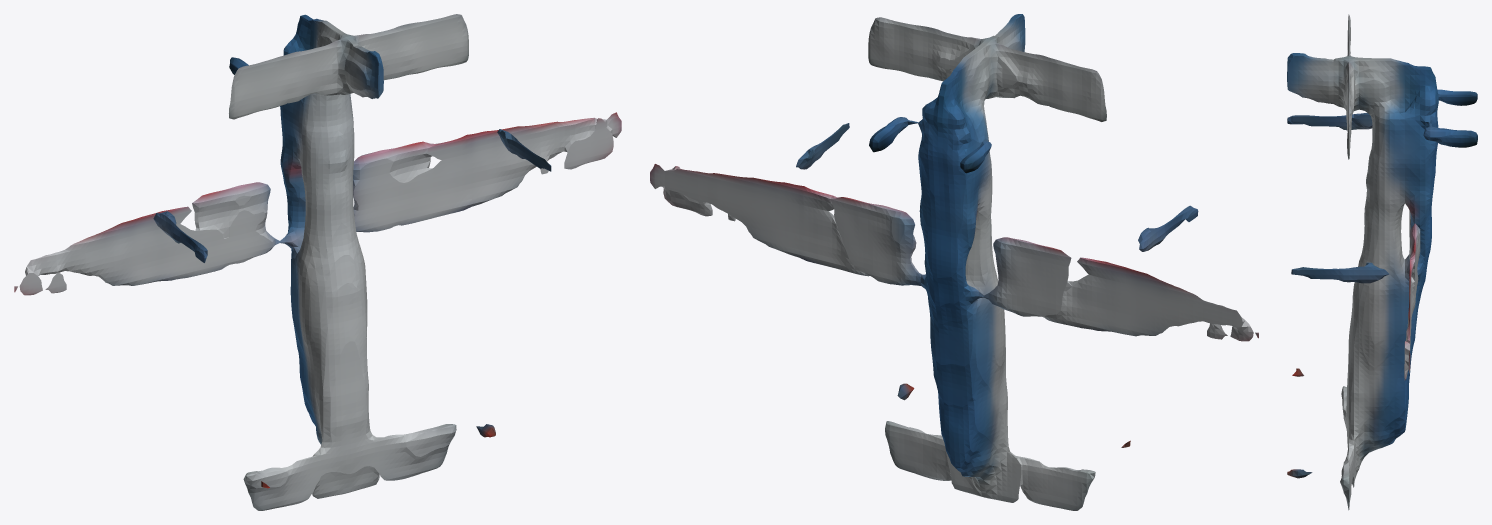
The model's file is airplane.glb.
The picture shows the model from 3 angles, left to right: view 1: azimuth 30°, elevation 25°; view 2: azimuth 150°, elevation 25°; view 3: azimuth 270°, elevation 25°; orthographic projection. The views are drawn at different scales.
Visible parts, largest first — view 1: world; view 2: world; view 3: world.
Boxes of the visible parts, box(x1,y1,x2,y2) form: world: box(14, 14, 621, 510); world: box(650, 14, 1258, 510); world: box(1287, 14, 1477, 510).
Size of the model in its own units: 1.95 by 1.42 by 0.5814.
